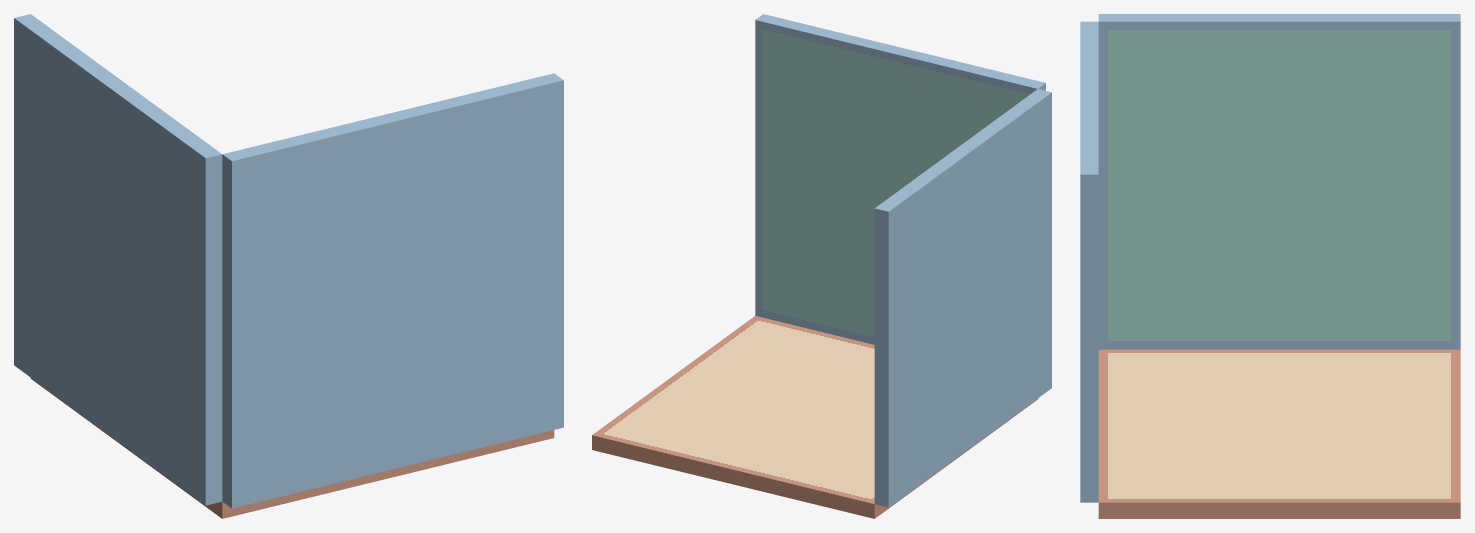
File: Piece.glb
3 views of the same model, side by side, from view 1: azimuth 30°, elevation 25°; view 2: azimuth 150°, elevation 25°; view 3: azimuth 270°, elevation 25° (orthographic). The views are drawn at different scales.
Parts seen in each view (by area): view 1: Piece; view 2: Piece; view 3: Piece.
Boxes of the visible parts, left/top/right/bottom form: Piece: left=14, top=14, right=563, bottom=518; Piece: left=592, top=14, right=1051, bottom=518; Piece: left=1080, top=14, right=1460, bottom=518.
Bounding box in the file's own units: 21 × 21 × 21.
Materials: 1 (1 with a texture image).
